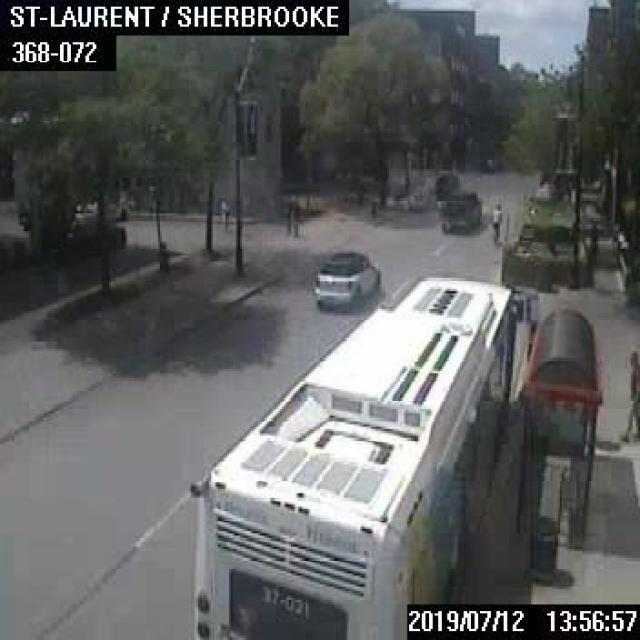bus: (184, 276, 523, 638)
pedestrian: (620, 347, 638, 438), (489, 200, 504, 244), (284, 193, 299, 234)
vehicle: (313, 244, 380, 306), (434, 190, 481, 233), (70, 200, 126, 228), (433, 171, 458, 194)
